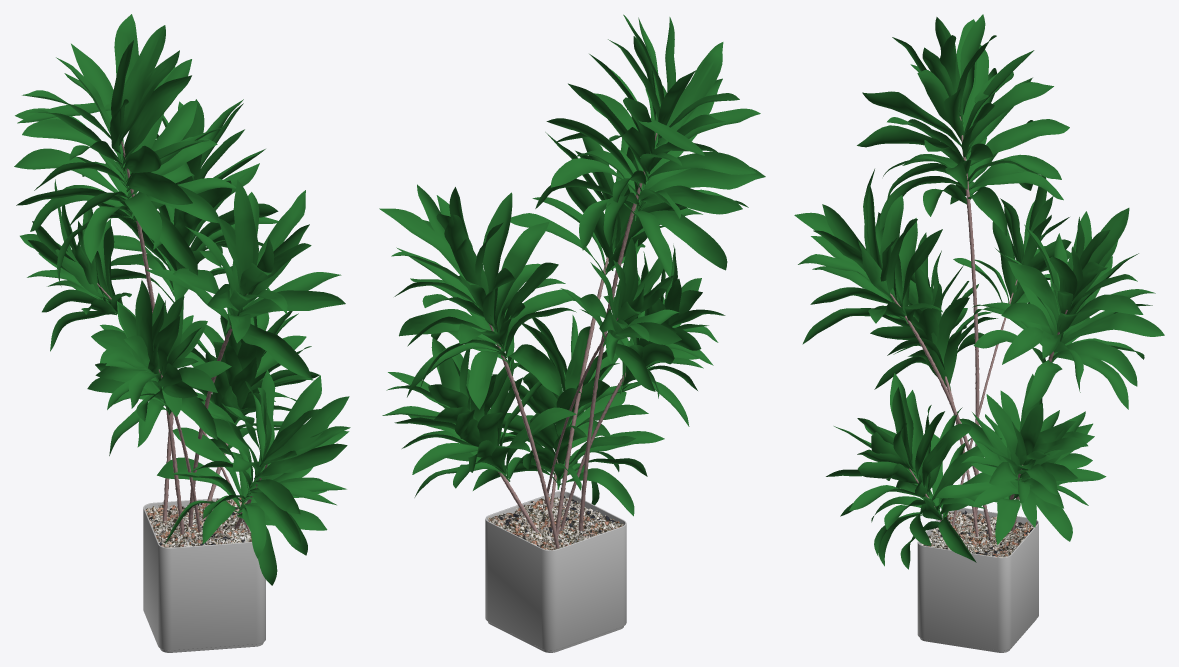
File: tree.glb
The picture shows the model from 3 angles, left to right: view 1: azimuth 30°, elevation 25°; view 2: azimuth 150°, elevation 25°; view 3: azimuth 270°, elevation 25°; orthographic projection. The views are drawn at different scales.
Visible parts, largest first — view 1: House Plant Palm; view 2: House Plant Palm; view 3: House Plant Palm.
Boxes of the visible parts, left/top/right/bottom form: House Plant Palm: left=14, top=14, right=350, bottom=652; House Plant Palm: left=379, top=14, right=765, bottom=652; House Plant Palm: left=794, top=14, right=1164, bottom=652.
Size of the model in its own units: 1.61 by 2.97 by 1.75.
4 materials, 1 textured.
